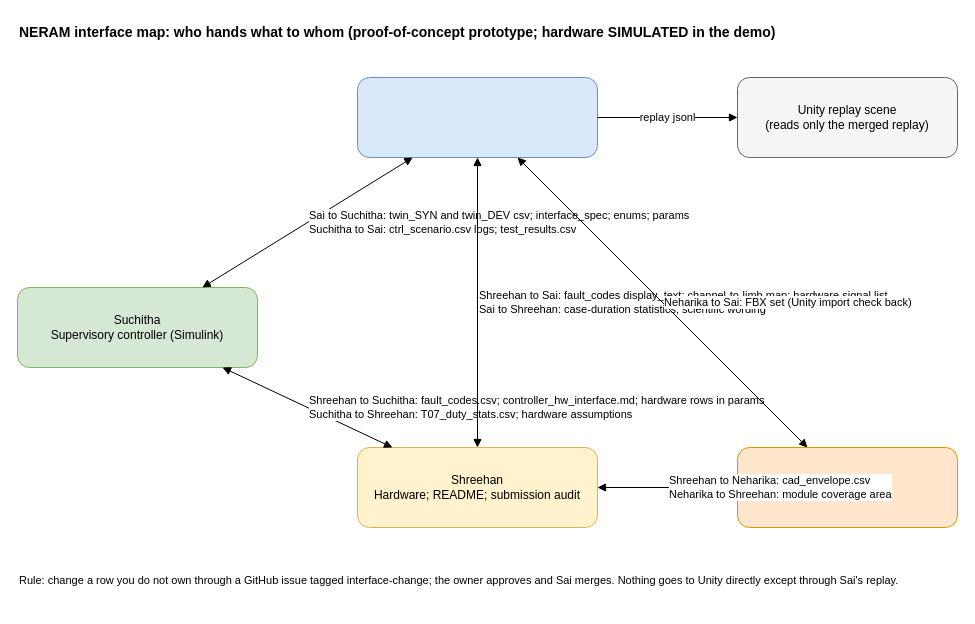
The diagram is 975 pixels wide and 624 high, and some of its shapes have lost their labels. Each missing label, with the centre of its shape:
Neharika Physical CAD; FBX exports: [847,487]
Sai Digital Twin; config files; replay builder: [477,117]
